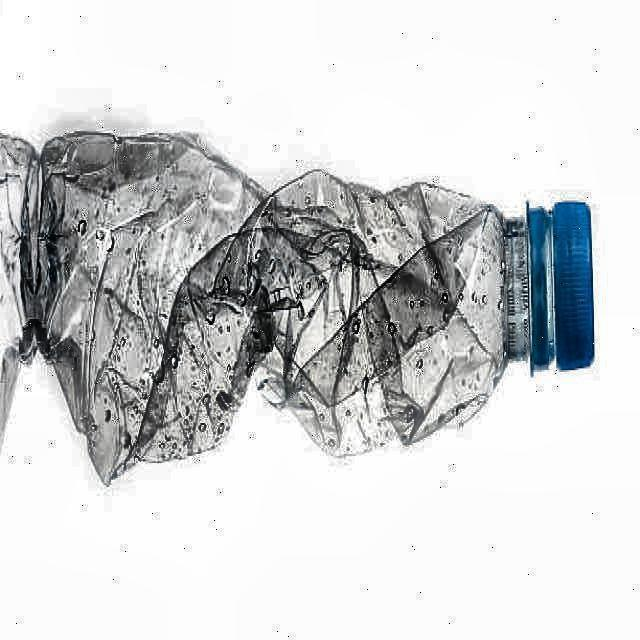plastic: (38, 132, 594, 481)
